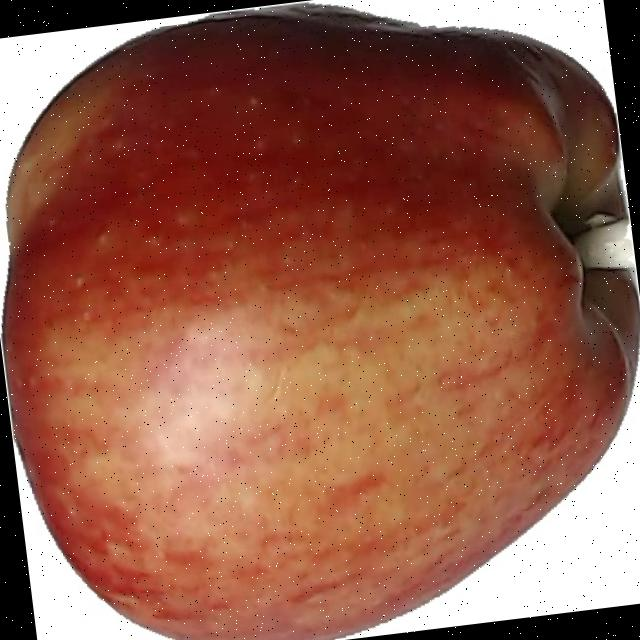apple: (3, 3, 637, 640)
